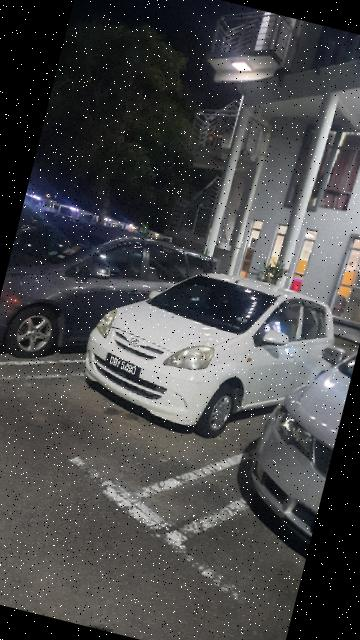License_Plate: (100, 350, 145, 384)
car: (73, 242, 351, 467), (238, 328, 360, 543)
